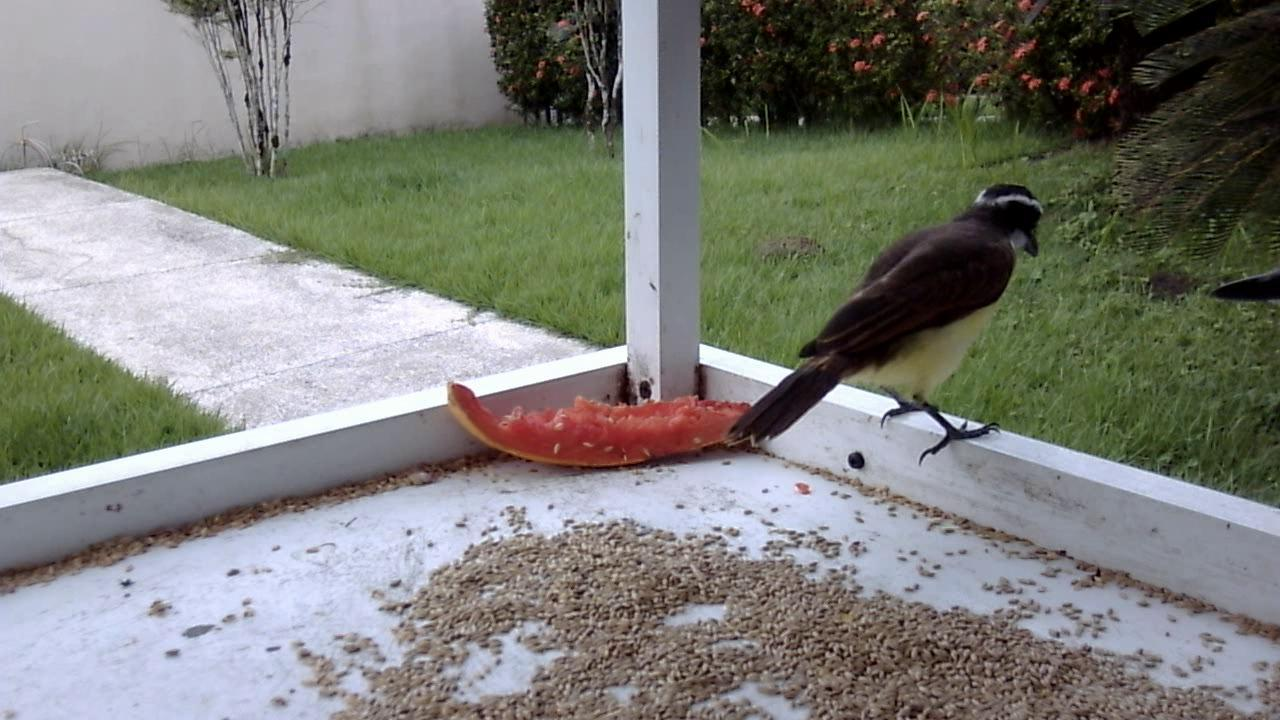bem_te_vi: (718, 178, 1050, 481)
